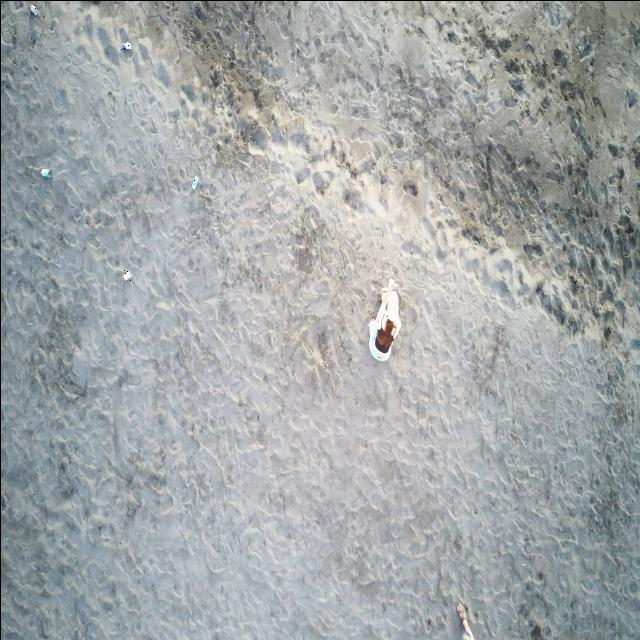Garbage: (368, 279, 400, 360), (40, 168, 51, 178), (123, 267, 131, 280), (30, 4, 37, 16), (120, 42, 131, 49), (192, 177, 198, 188)
